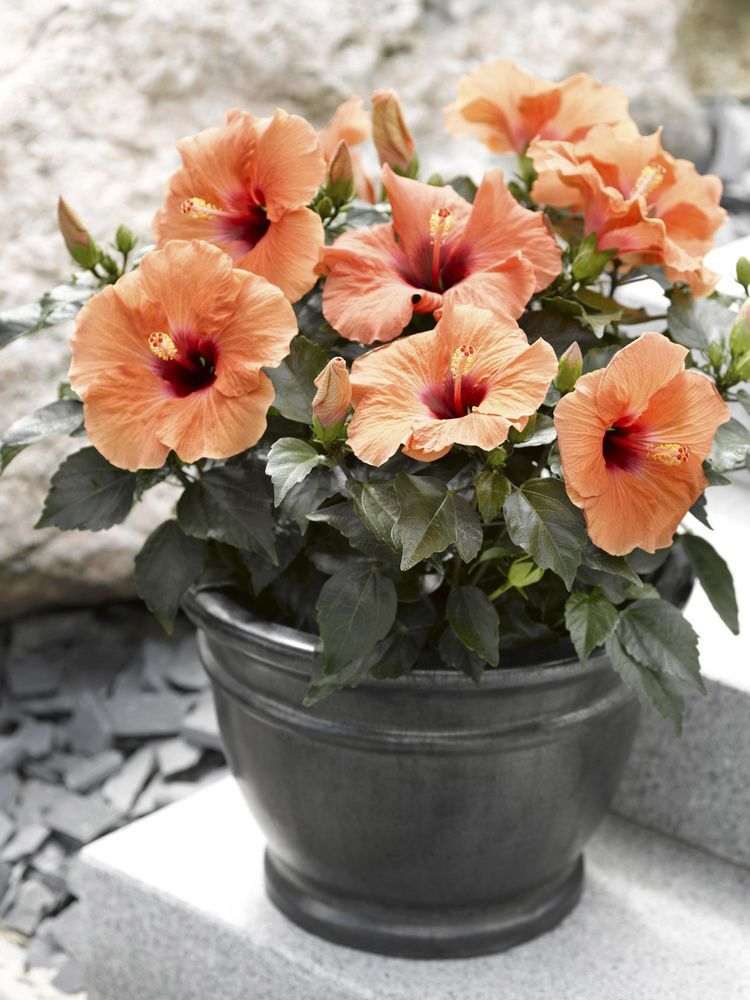Hibiscus-rosa-sinesis: (68, 242, 297, 466), (556, 330, 728, 557), (324, 180, 564, 332), (352, 305, 556, 462), (157, 112, 324, 297), (531, 122, 727, 270)
